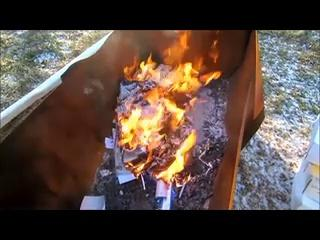Fire: (119, 35, 190, 179)
